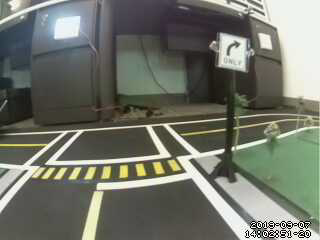Right_only_sign: (218, 32, 250, 76)
